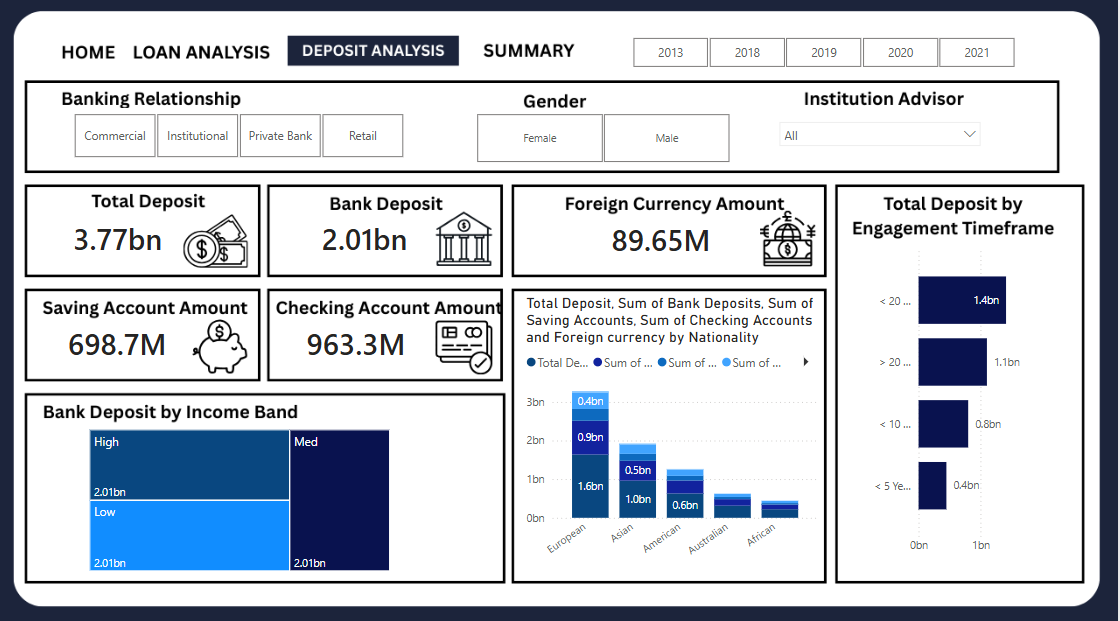

The dashboard page shown, as its layout file describes it:
{"tool":"powerbi","page":{"name":"Deposit Analysis","canvas":[1280,720],"ordinal":2},"visuals":[{"type":"slicer","fields":{"Values":["banking customer.Year of joining"]},"box":[700,38.6,485.7,47.1],"z":0},{"type":"actionButton","box":[50,42.9,100,40],"z":1000},{"type":"actionButton","box":[551.4,42.9,117.1,40],"z":2000},{"type":"actionButton","box":[334.3,42.9,202.9,40],"z":3000},{"type":"card","fields":{"Values":["banking customer.Total Deposit"]},"box":[50,202.9,174.3,145.7],"z":4000},{"type":"card","fields":{"Values":["Sum(banking customer.Checking Accounts)"]},"box":[310,318.6,198.6,154.3],"z":5000},{"type":"card","fields":{"Values":["Sum(banking customer.Saving Accounts)"]},"box":[37.1,318.6,198.6,154.3],"z":6000},{"type":"card","fields":{"Values":["Sum(banking customer.Bank Deposits)"]},"box":[320,198.6,198.6,154.3],"z":7000},{"type":"slicer","title":"Banking Relationship","fields":{"Values":["banking customer.BRId"]},"box":[61.4,125.7,425.7,62.9],"z":8000},{"type":"slicer","title":"Banking Relationship","fields":{"Values":["banking customer.GenderId"]},"box":[521.4,125.7,338.6,68.6],"z":9000},{"type":"slicer","title":"Banking Relationship","fields":{"Values":["banking customer.IAId"]},"box":[882.9,131.4,250,57.1],"z":10000},{"type":"actionButton","box":[150,42.9,170,40],"z":11000},{"type":"card","fields":{"Values":["Clients - Banking.Foreign currency"]},"box":[668.6,234.3,178.6,84.3],"z":12000},{"type":"treemap","fields":{"Group":["banking customer.Income Band"],"Values":["Sum(Clients - Banking.Bank Deposits)"]},"box":[100,488.6,352.9,171.4],"z":13000},{"type":"columnChart","fields":{"Category":["Clients - Banking.Nationality"],"Y":["banking customer.Total Deposit","Sum(Clients - Banking.Bank Deposits)","Sum(Clients - Banking.Saving Accounts)","Sum(Clients - Banking.Checking Accounts)","Clients - Banking.Foreign currency"]},"box":[598.6,338.6,344.3,321.4],"z":14000},{"type":"clusteredBarChart","fields":{"Y":["banking customer.Total Deposit"],"Category":["Clients - Banking.Engagement Timeframe"]},"box":[984.3,277.1,218.6,367.1],"z":15000}]}

Visuals, with their boxes in screenshot pixels (x1, y1, x2, y2), scaled from the page's 1280x720 canvas onto the 1120x621 screenshot:
slicer - banking customer.Year of joining: 612,33,1037,74
actionButton: 44,37,131,72
actionButton: 482,37,585,72
actionButton: 293,37,470,72
card - banking customer.Total Deposit: 44,175,196,301
card - Sum(banking customer.Checking Accounts): 271,275,445,408
card - Sum(banking customer.Saving Accounts): 32,275,206,408
card - Sum(banking customer.Bank Deposits): 280,171,454,304
"Banking Relationship" slicer: 54,108,426,163
"Banking Relationship" slicer: 456,108,752,168
"Banking Relationship" slicer: 773,113,991,163
actionButton: 131,37,280,72
card - Clients - Banking.Foreign currency: 585,202,741,275
treemap - banking customer.Income Band x Sum(Clients - Banking.Bank Deposits): 88,421,396,569
columnChart - Clients - Banking.Nationality x banking customer.Total Deposit: 524,292,825,569
clusteredBarChart - banking customer.Total Deposit x Clients - Banking.Engagement Timeframe: 861,239,1053,556
